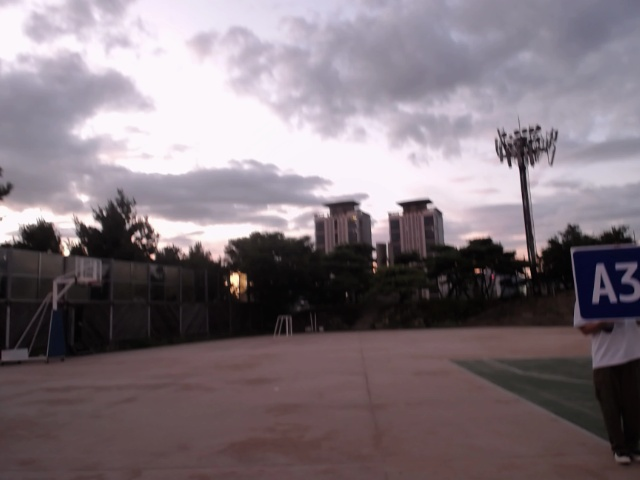delivery_a3: (569, 246, 639, 321)
